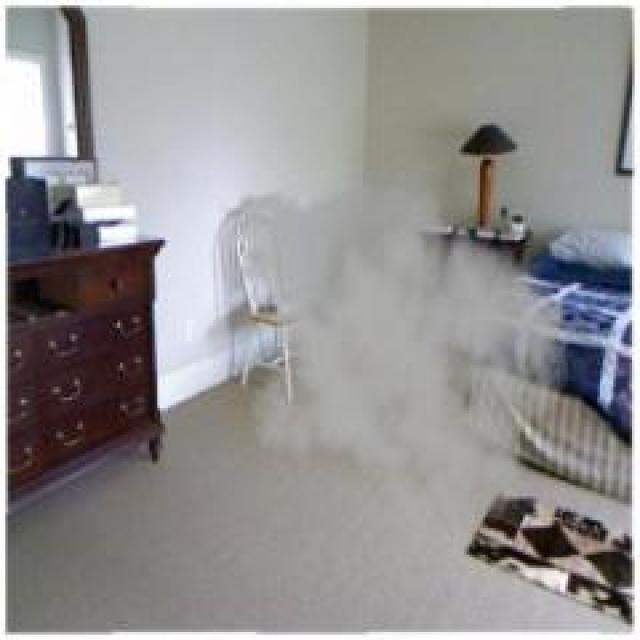Smoke: (206, 167, 566, 505)
